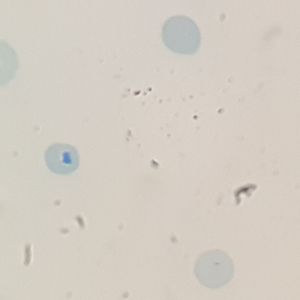erythrocyte: (161, 14, 204, 57), (42, 142, 82, 177)
punctate reticulocyte: (192, 248, 237, 290)
